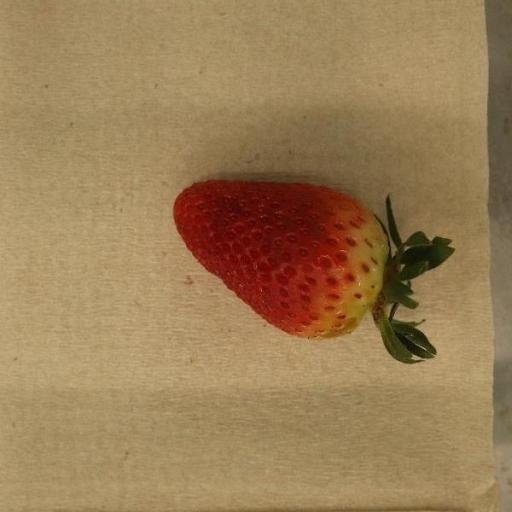Strawberry: (173, 180, 457, 365)
